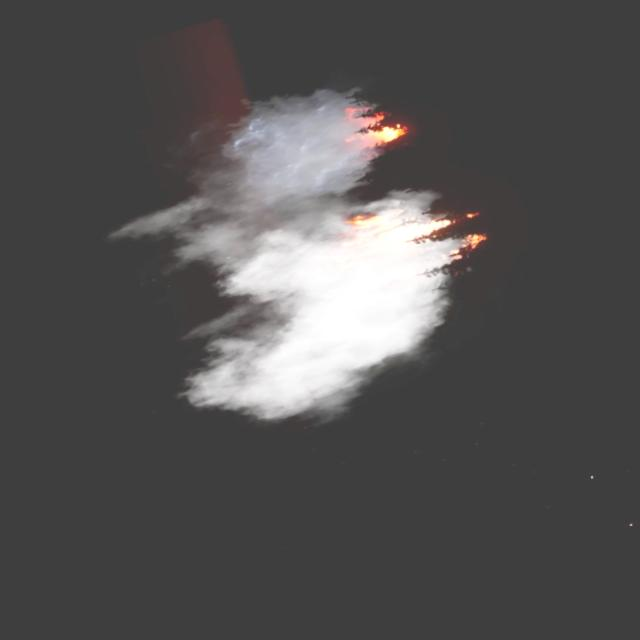fire: (336, 182, 486, 283), (332, 92, 407, 159)
smoke: (91, 62, 482, 456)
